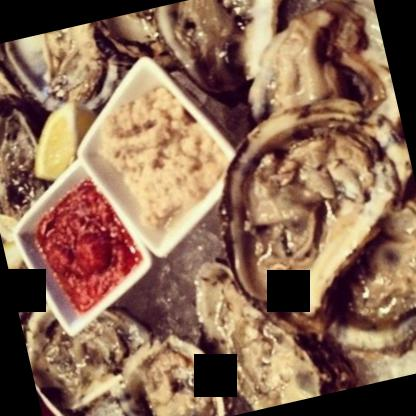oyster: (198, 90, 415, 327), (235, 0, 406, 177), (188, 233, 347, 415), (312, 194, 415, 367), (19, 285, 156, 415), (166, 0, 300, 127), (0, 38, 68, 237), (0, 18, 126, 116), (102, 323, 234, 415)
